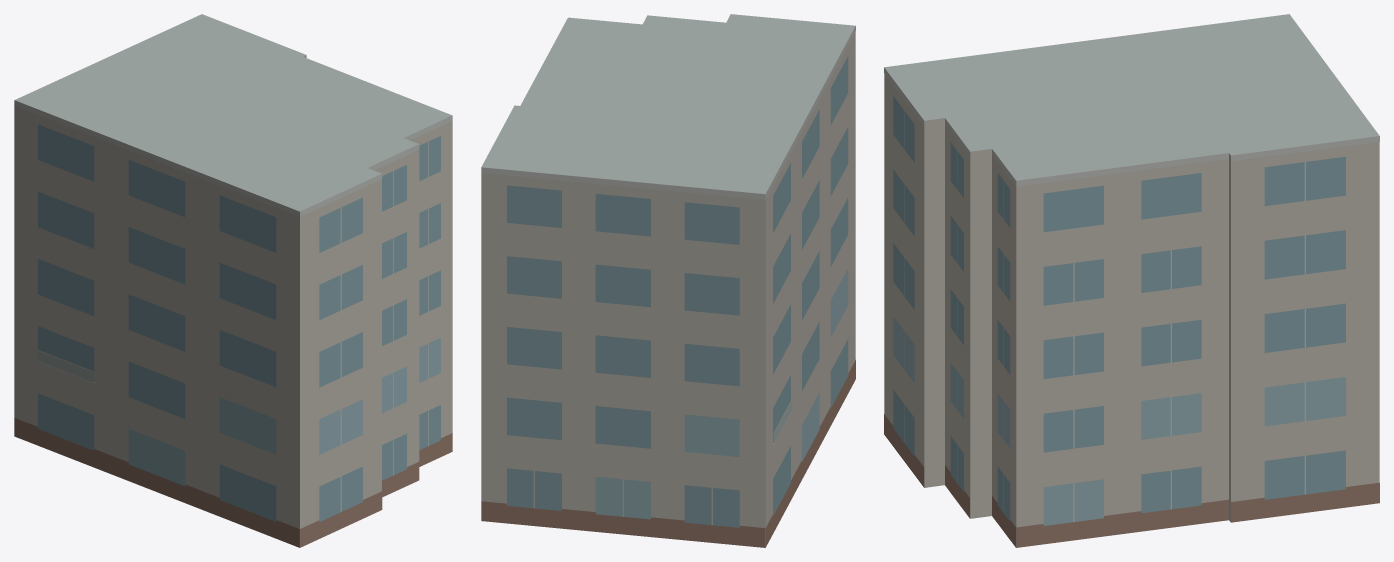
Rendered from survey-upis-32621366.glb.
The picture shows the model from 3 angles, left to right: view 1: azimuth 30°, elevation 25°; view 2: azimuth 150°, elevation 25°; view 3: azimuth 270°, elevation 25°; orthographic projection. The views are drawn at different scales.
Parts seen in each view (by area): view 1: survey-upis-32621366.tmp; view 2: survey-upis-32621366.tmp; view 3: survey-upis-32621366.tmp.
Boxes of the visible parts, left/top/right/bottom form: survey-upis-32621366.tmp: left=14, top=14, right=452, bottom=547; survey-upis-32621366.tmp: left=481, top=14, right=855, bottom=547; survey-upis-32621366.tmp: left=884, top=14, right=1379, bottom=547.
Bounding box in the file's own units: 14.86 × 15.25 × 18.67.
